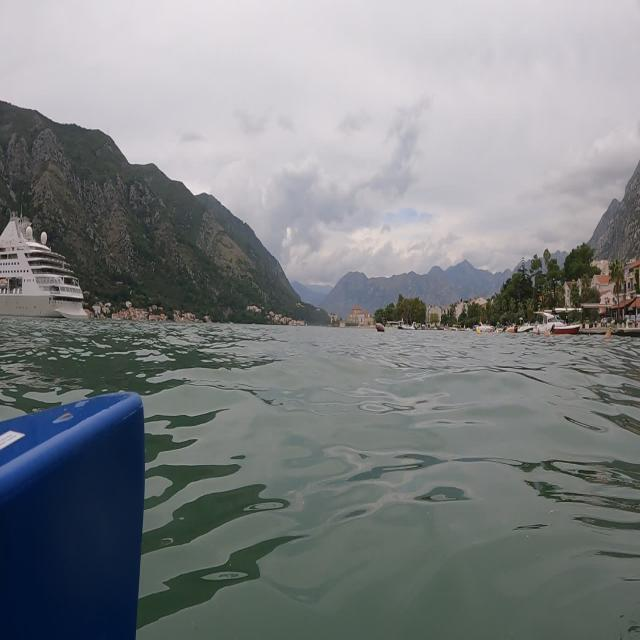boat: (0, 202, 104, 341)
